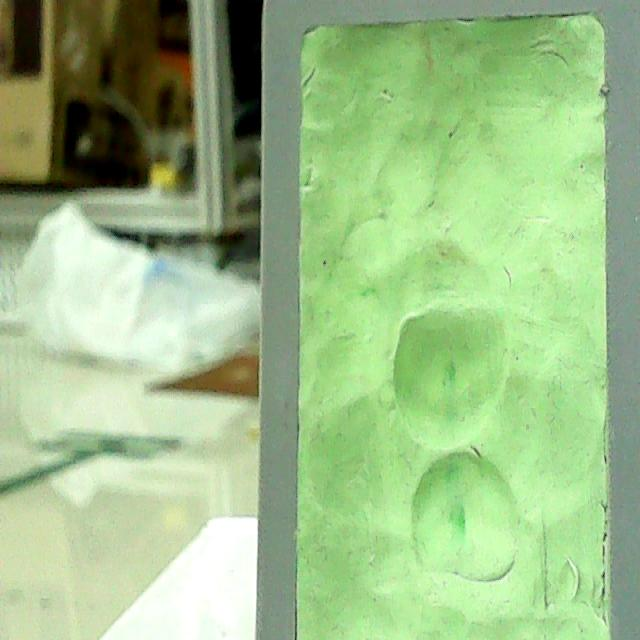block: (248, 1, 640, 640)
